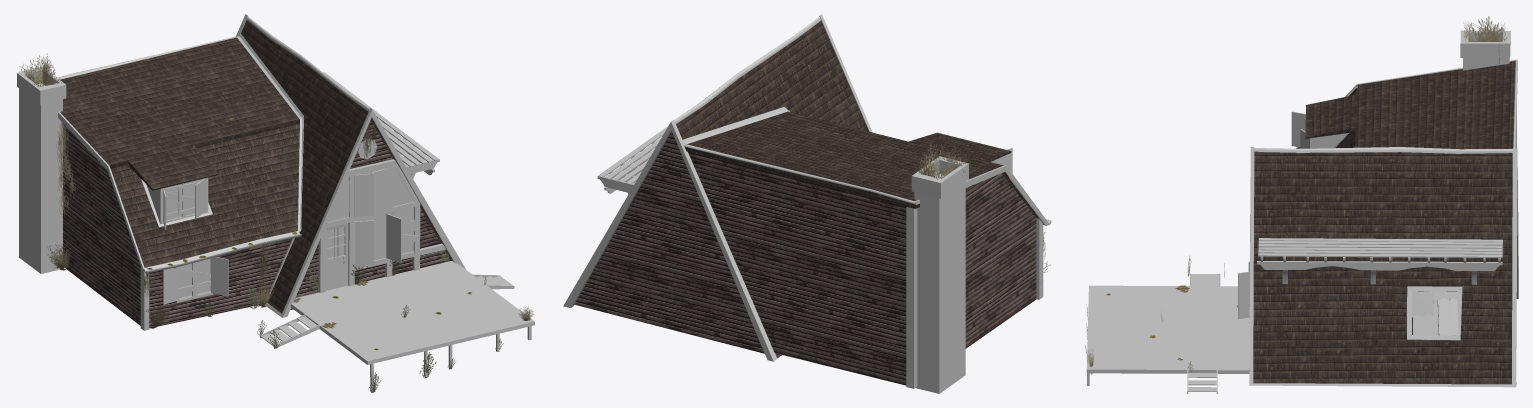
3 views of the same model, side by side, from view 1: azimuth 30°, elevation 25°; view 2: azimuth 150°, elevation 25°; view 3: azimuth 270°, elevation 25° (orthographic). The views are drawn at different scales.
Parts seen in each view (by area): view 1: pCube22; view 2: pCube22, LEAFS82; view 3: pCube22, LEAFS82.
Part boxes in pixels (box(x1,y1,x2,y2)): pCube22: box(17, 14, 534, 392); pCube22: box(563, 14, 1051, 393); LEAFS82: box(918, 143, 944, 177); pCube22: box(1086, 30, 1518, 393); LEAFS82: box(1467, 17, 1507, 41).
Size of the model in its own units: 8.33 by 5.32 by 8.71.
